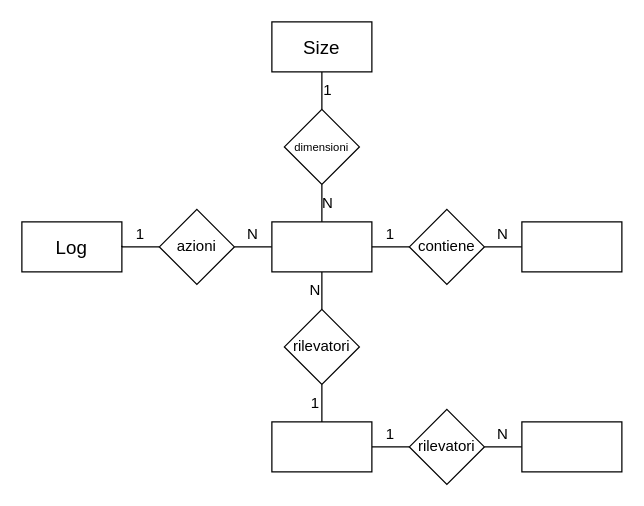
Some shapes in this 644 by 506 pixel diagram are drawn without their labels. Each missing label, with the centre of its shape:
"Liquid" goes at pixel 571 246.
"Sensor" goes at pixel 321 446.
"SensorType" goes at pixel 571 446.
"Silo" goes at pixel 321 246.
